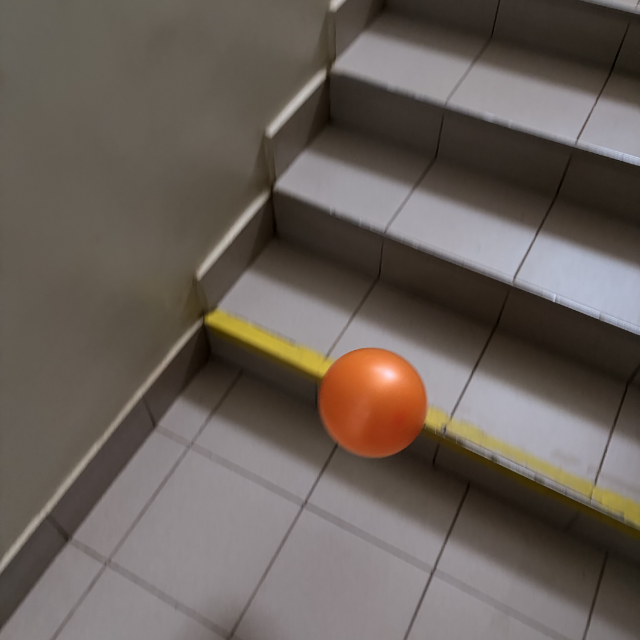balloon: (318, 347, 428, 458)
